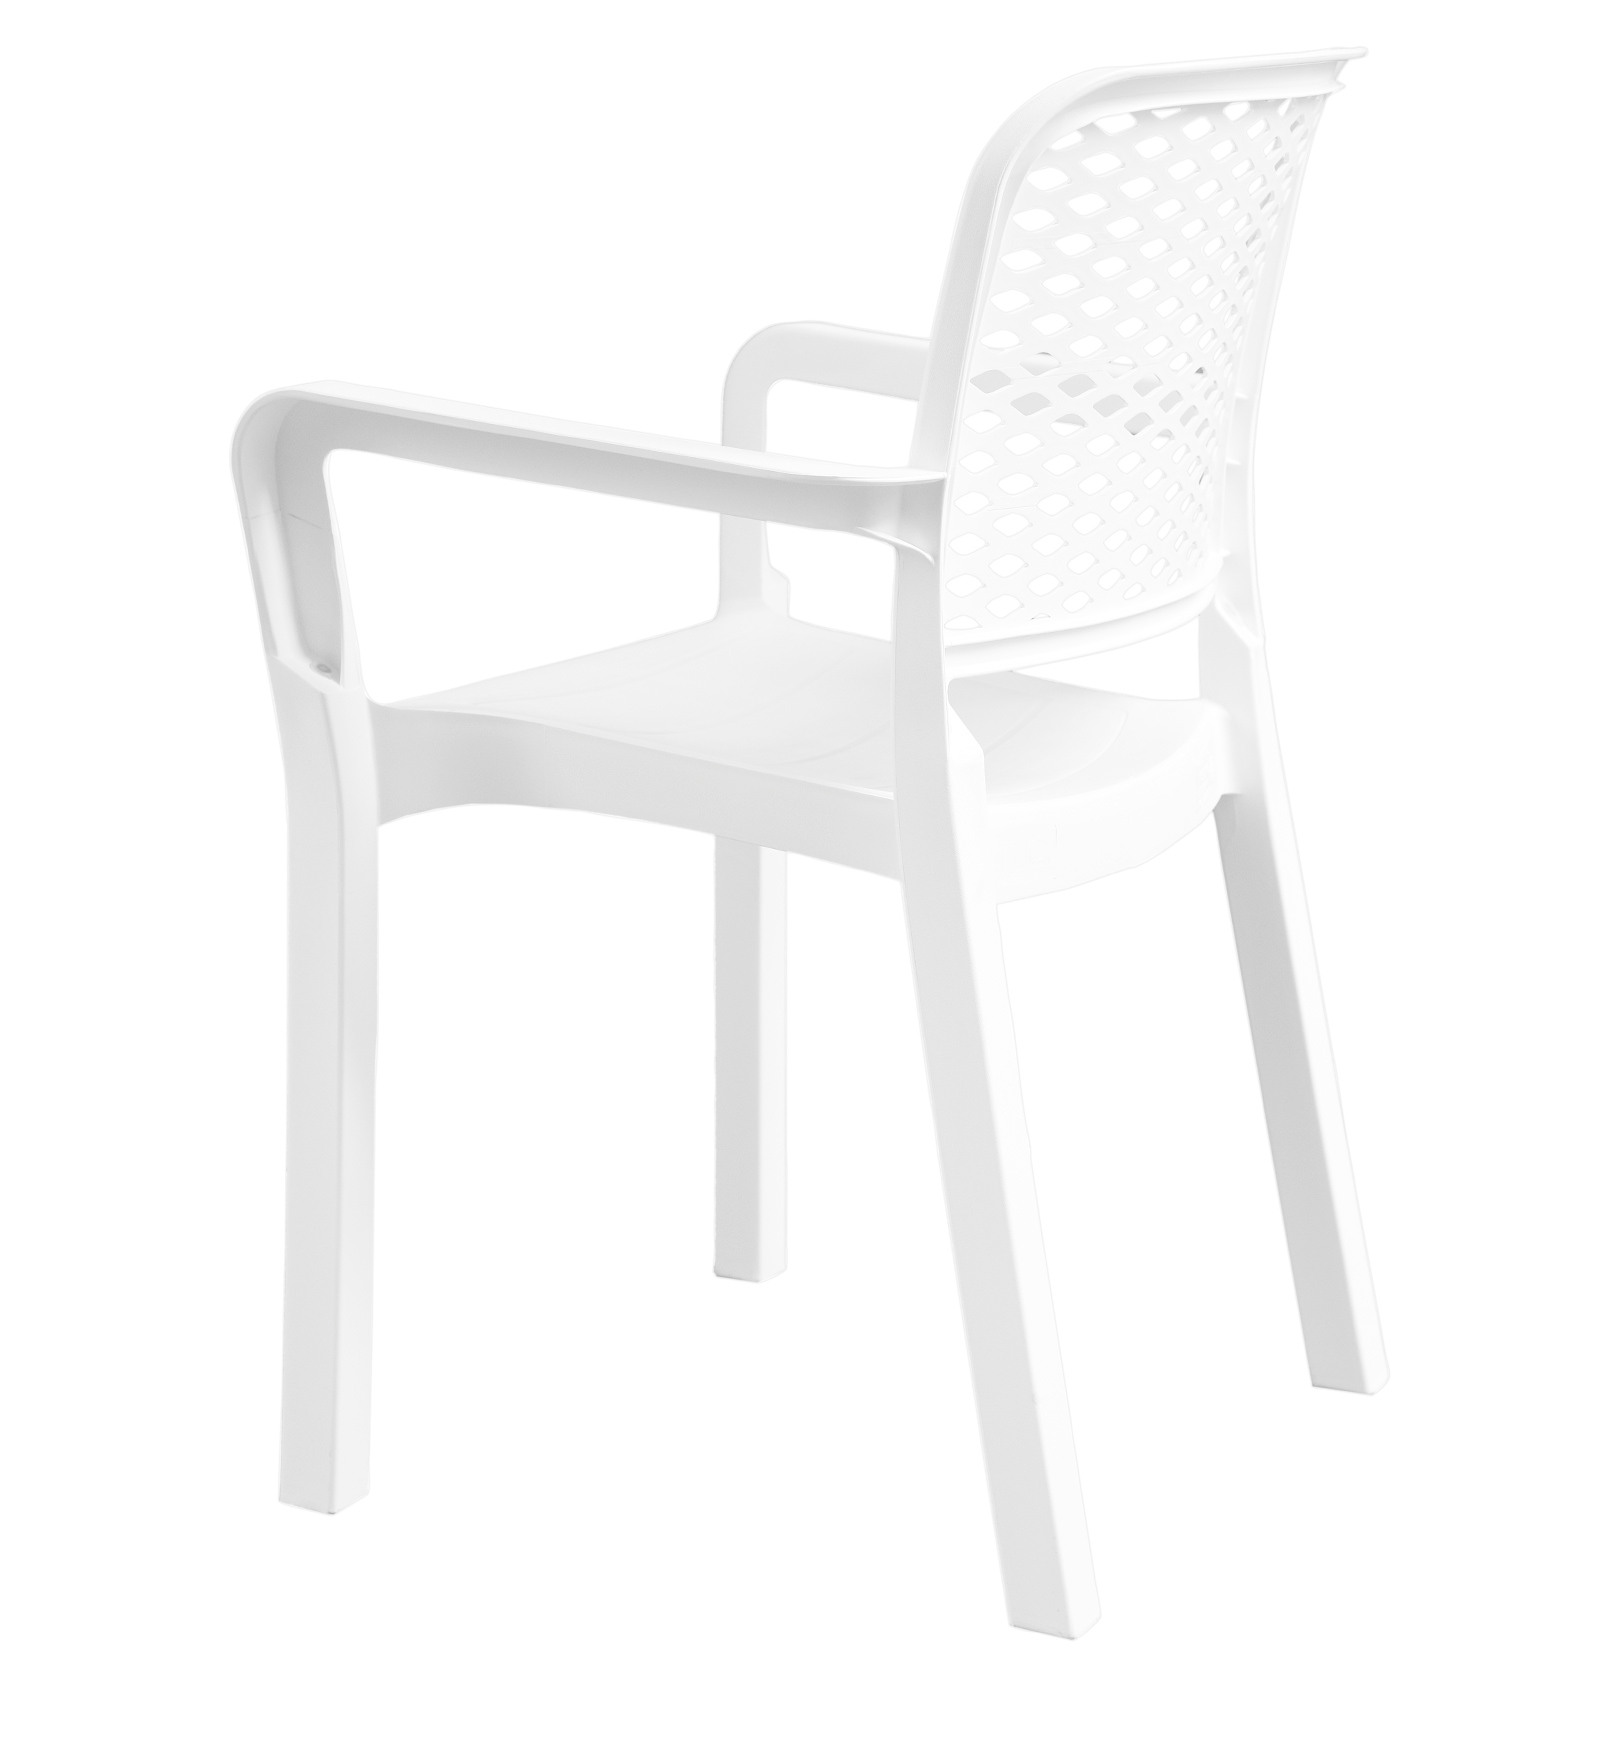Luxury Plastic Chair in White Colour by Italica Furniture: (195, 54, 1375, 1640)
